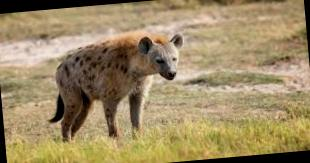hyenas: (40, 29, 193, 158)
